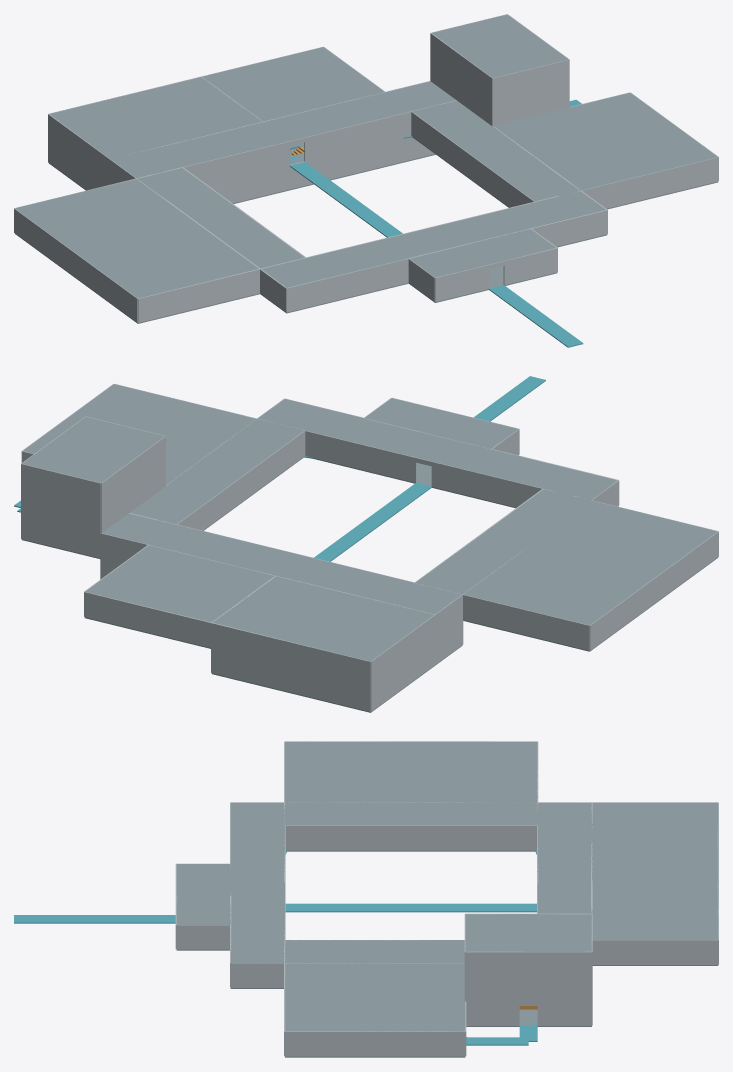
File: furnished.glb
3 renders of one model, top to bottom at view 1: azimuth 30°, elevation 25°; view 2: azimuth 150°, elevation 25°; view 3: azimuth 270°, elevation 25°, orthographic. The views are drawn at different scales.
Visible parts, largest first — view 1: Ceiling cap dorm, Ceiling cap refectory, Ceiling cap archive, Ceiling cap north, Ceiling cap south, Ceiling cap vestry, Ceiling cap east, Ceiling cap west, Ceiling cap bell, Wall catacombs S, Ceiling cap gatehouse, Wall refectory S (+19 smaller); view 2: Ceiling cap dorm, Ceiling cap archive, Ceiling cap north, Ceiling cap south, Ceiling cap vestry, Ceiling cap refectory, Ceiling cap east, Ceiling cap west, Ceiling cap bell, Wall archive N, Wall chamber N, Wall tower-base N (+18 smaller); view 3: Ceiling cap dorm, Ceiling cap refectory, Ceiling cap archive, Ceiling cap south, Ceiling cap vestry, Wall west E, Ceiling cap north, Ceiling cap west, Ceiling cap bell, Wall refectory E, Ceiling cap east, Ceiling cap gatehouse (+10 smaller).
Part boxes in pixels (left/top/right/bottom): Ceiling cap dorm: left=15, top=179, right=258, bottom=298; Ceiling cap refectory: left=494, top=93, right=717, bottom=190; Ceiling cap archive: left=49, top=77, right=262, bottom=158; Ceiling cap north: left=110, top=81, right=455, bottom=178; Ceiling cap south: left=261, top=191, right=605, bottom=287; Ceiling cap vestry: left=202, top=47, right=384, bottom=121; Ceiling cap east: left=412, top=101, right=580, bottom=201; Ceiling cap west: left=137, top=168, right=304, bottom=268; Ceiling cap bell: left=431, top=14, right=568, bottom=77; Wall catacombs S: left=208, top=137, right=434, bottom=203; Ceiling cap gatehouse: left=410, top=229, right=556, bottom=277; Wall refectory S: left=581, top=157, right=718, bottom=208; Ceiling cap dorm: left=463, top=500, right=717, bottom=625; Ceiling cap archive: left=213, top=576, right=433, bottom=661; Ceiling cap north: left=102, top=513, right=461, bottom=614; Ceiling cap south: left=257, top=399, right=617, bottom=500; Ceiling cap vestry: left=85, top=545, right=274, bottom=622; Ceiling cap refectory: left=22, top=384, right=256, bottom=485; Ceiling cap east: left=130, top=419, right=304, bottom=524; Ceiling cap west: left=415, top=489, right=590, bottom=594; Ceiling cap bell: left=22, top=417, right=164, bottom=482; Wall archive N: left=211, top=622, right=370, bottom=686; Wall chamber N: left=211, top=648, right=370, bottom=711; Wall tower-base N: left=21, top=489, right=100, bottom=558; Ceiling cap dorm: left=285, top=741, right=537, bottom=802; Ceiling cap refectory: left=285, top=963, right=465, bottom=1031; Ceiling cap archive: left=592, top=802, right=718, bottom=878; Ceiling cap south: left=230, top=802, right=284, bottom=962; Ceiling cap vestry: left=592, top=879, right=718, bottom=939; Wall west E: left=285, top=825, right=536, bottom=850; Ceiling cap north: left=537, top=802, right=591, bottom=913; Ceiling cap west: left=285, top=802, right=537, bottom=825; Ceiling cap bell: left=465, top=914, right=591, bottom=951; Wall refectory E: left=285, top=1031, right=465, bottom=1056; Ceiling cap east: left=285, top=940, right=464, bottom=962; Ceiling cap gatehouse: left=176, top=864, right=230, bottom=924.
Bounding box in the file's own units: 76.16 × 12.16 × 78.08.
